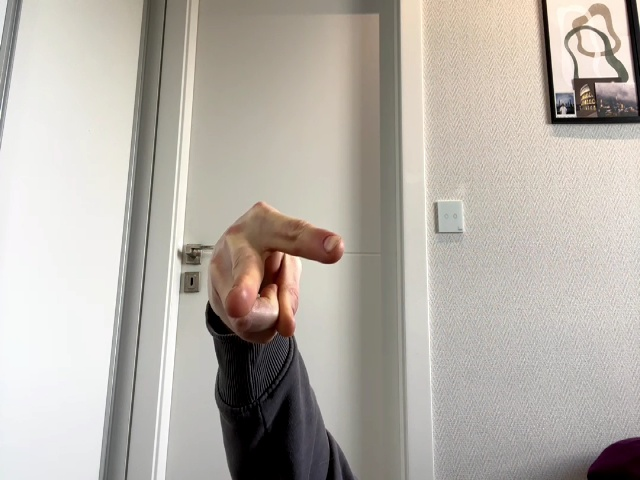U: (209, 202, 343, 341)
